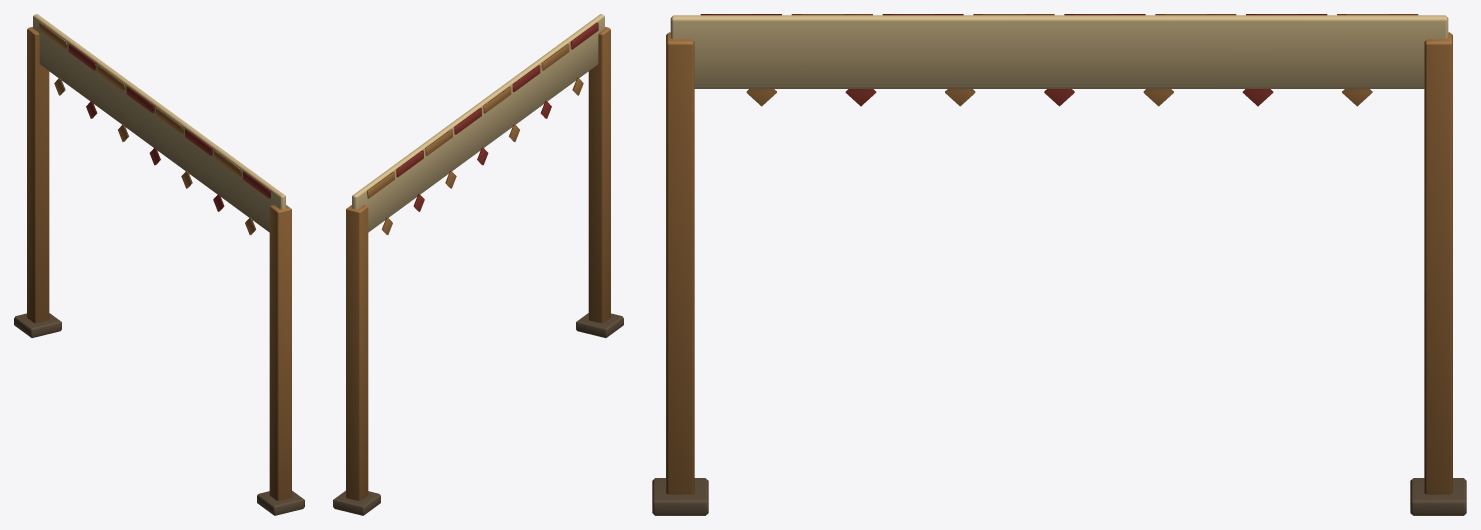
The model's file is speedway_county_jump_banner.glb.
3 views of the same model, side by side, from view 1: azimuth 30°, elevation 25°; view 2: azimuth 150°, elevation 25°; view 3: azimuth 270°, elevation 25° (orthographic). The views are drawn at different scales.
Parts seen in each view (by area): view 1: Jump zone support; view 2: Jump zone support; view 3: Jump zone support.
Part boxes in pixels (left/top/right/bottom): Jump zone support: left=14, top=14, right=304, bottom=515; Jump zone support: left=333, top=14, right=623, bottom=515; Jump zone support: left=652, top=14, right=1466, bottom=515.
Size of the model in its own units: 0.48 by 4.51 by 6.81.
